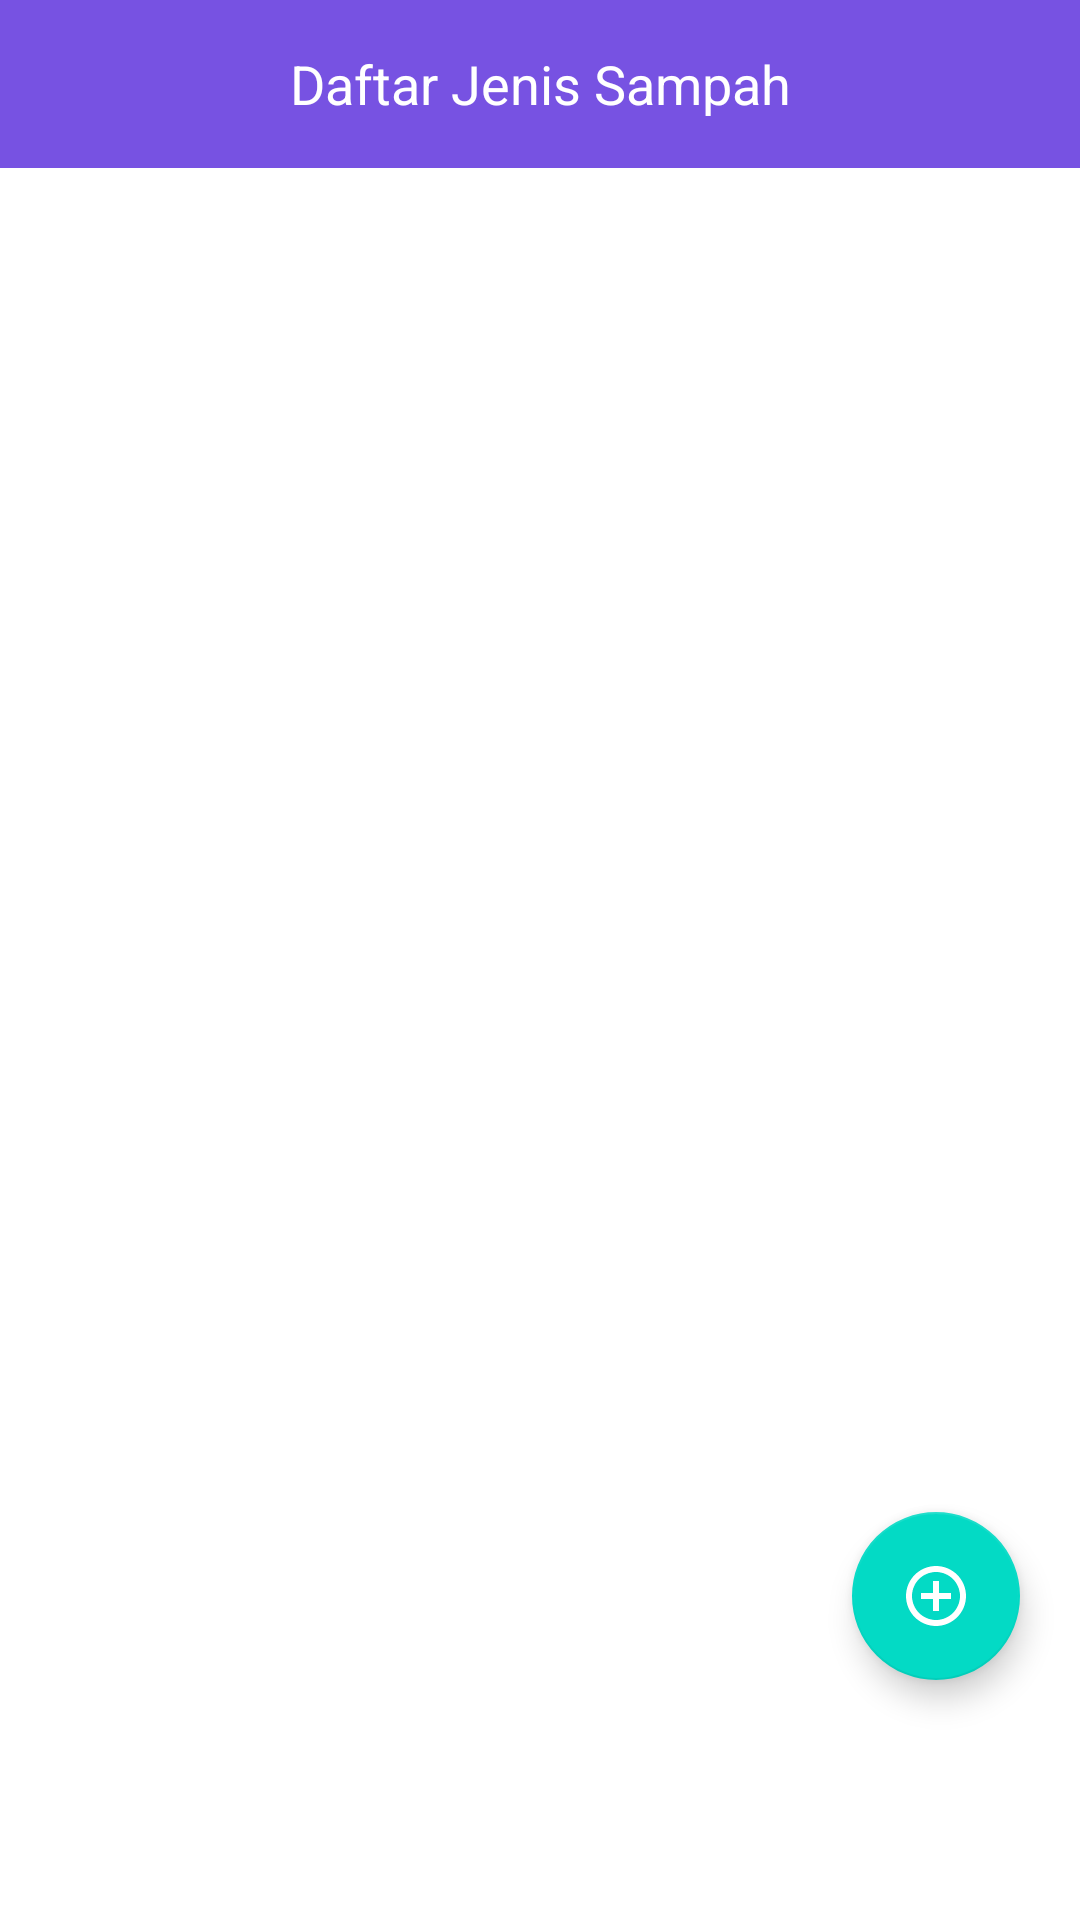

Icons on this 1080x1920 Android screen, each with the point to tap as [x,y]:
add: [936,1596]
